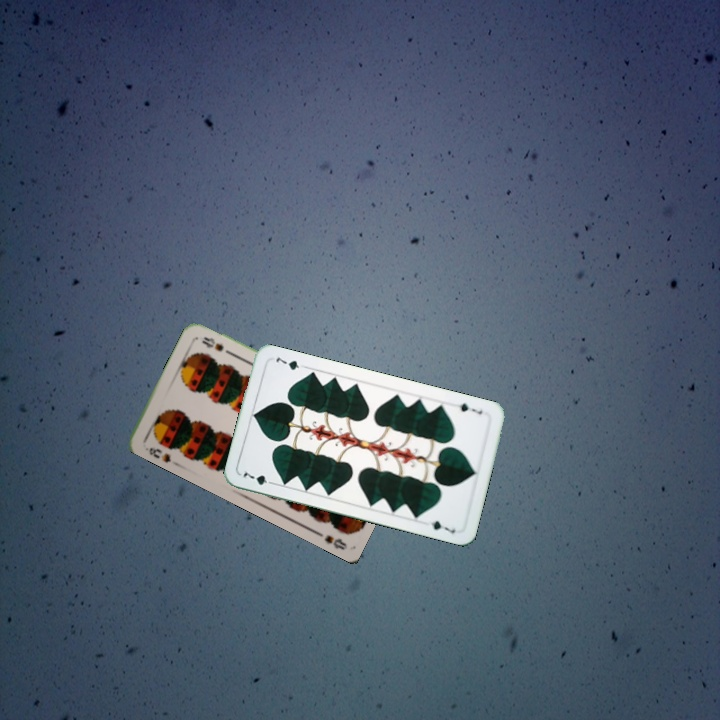G7: (239, 466, 278, 488), (455, 399, 485, 417)
S8: (141, 443, 174, 465)
